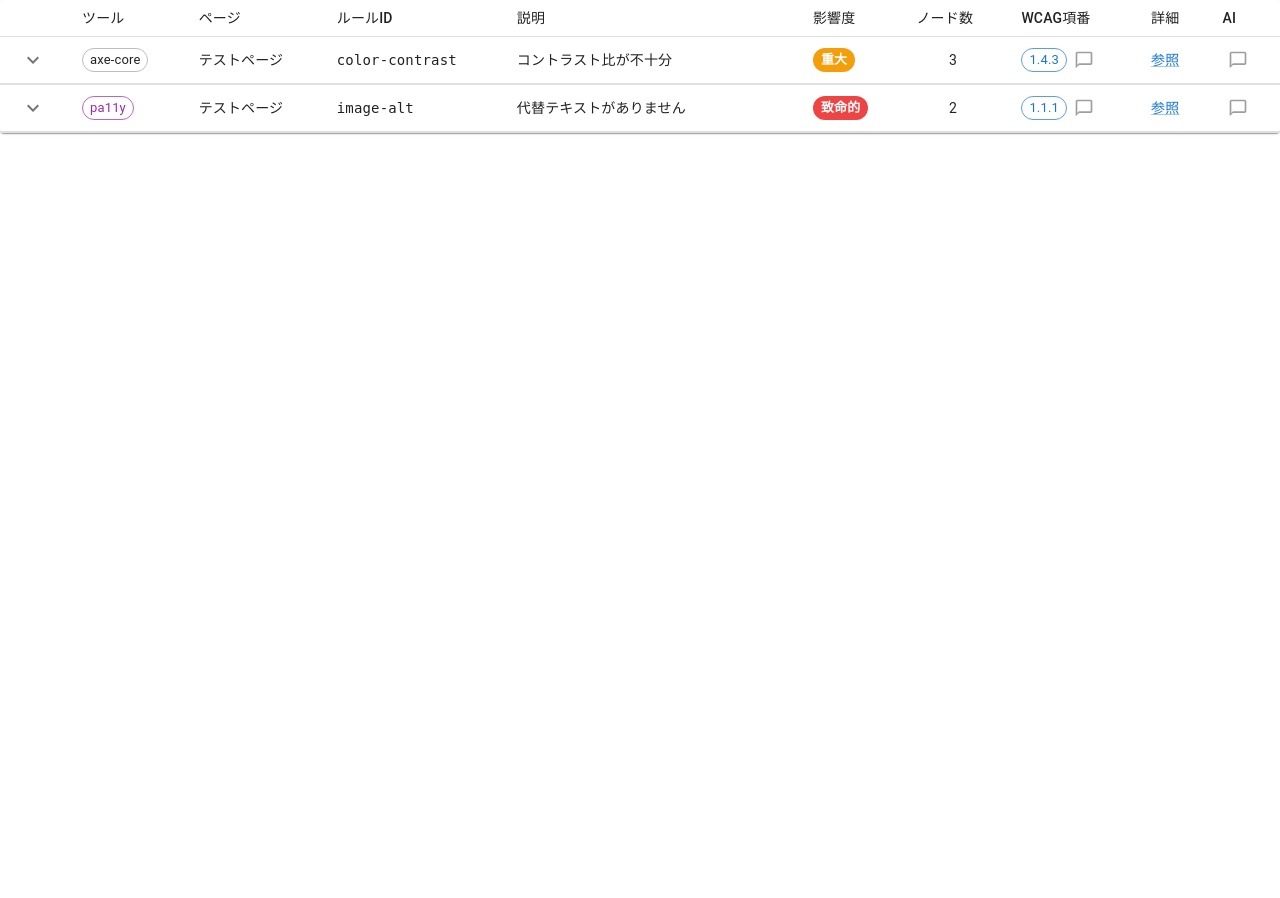
Test: フロントエンド統合テスト (Task 12.2) › 違反テーブル行展開でノード表示 (Req 1.1) › 複数の違反行を個別に展開できる
Note: 1つ目の違反を展開
Click the button named "ノード情報を展開" next to "axe-core" at (33, 60), box [16,43,50,77]
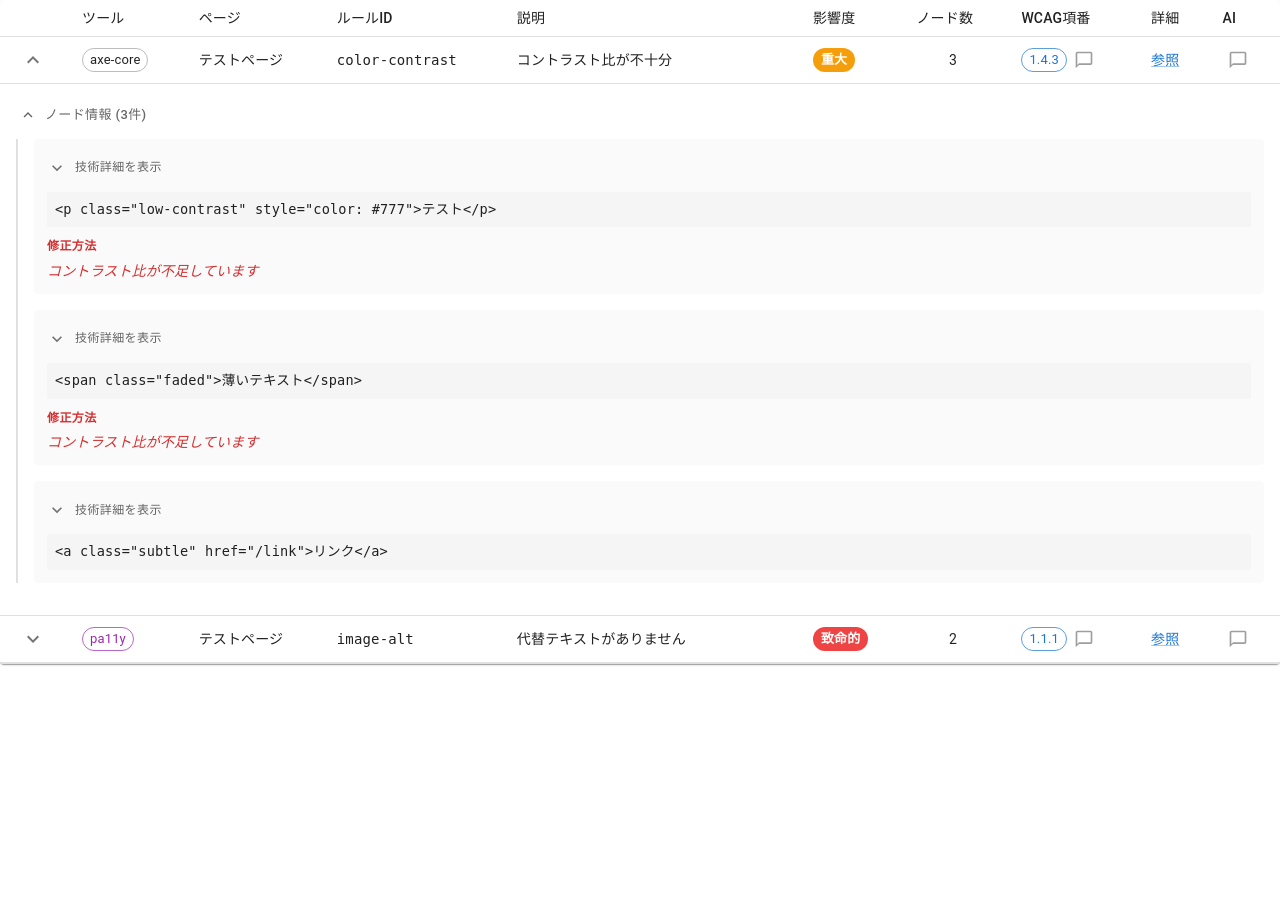
Expected: the text "<p class=\"low-contrast\" style=\"color: #777\">テスト</p>" is shown, [47,192,1251,227]
Note: 2つ目の違反を展開
Click the button named "ノード情報を展開" at (33, 639), box [16,622,50,656]
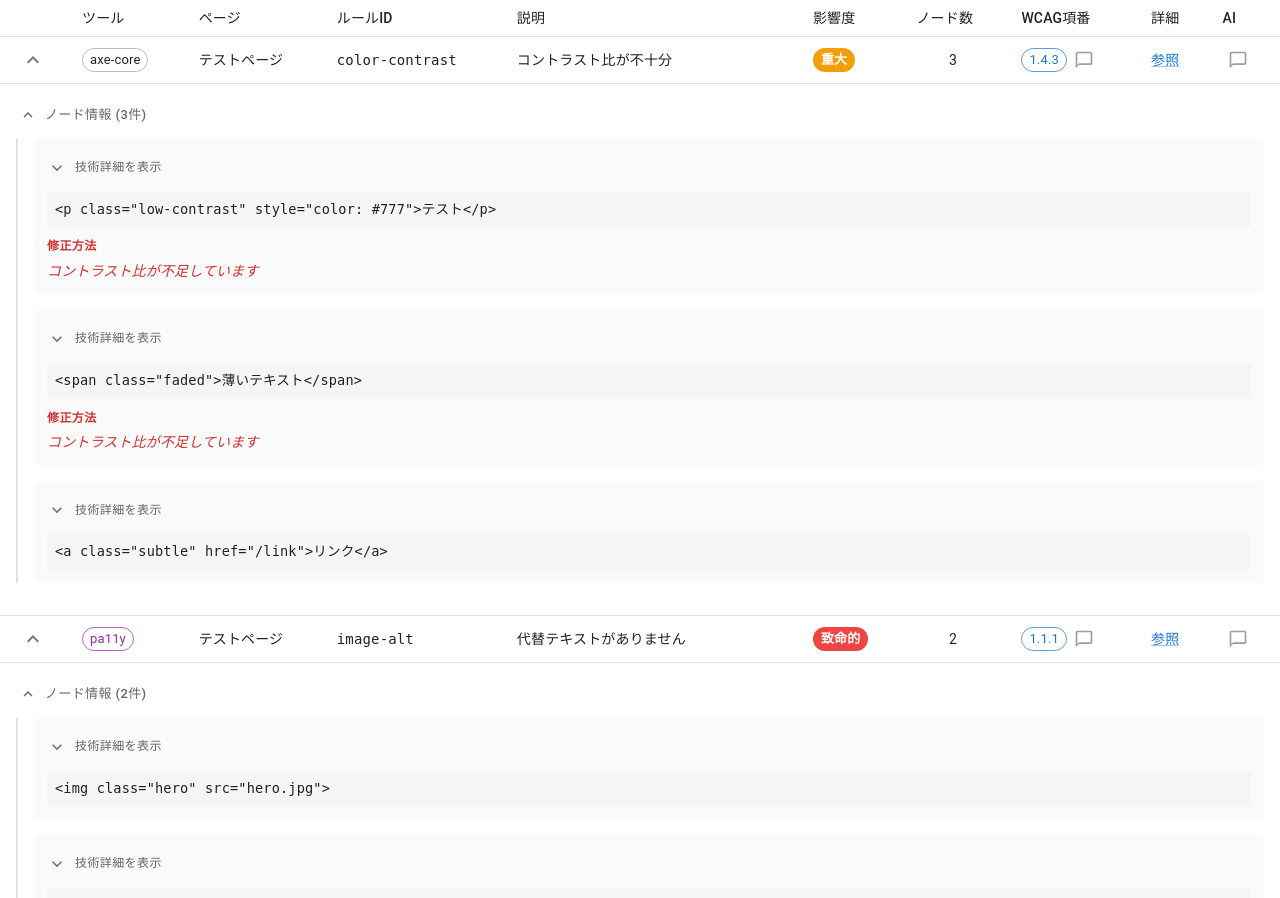
Expected: the text "<p class=\"low-contrast\" style=\"color: #777\">テスト</p>" is shown, [47,192,1251,227]
Expected: the text "<img class=\"hero\" src=\"hero.jpg\">" is shown, [47,771,1251,806]
